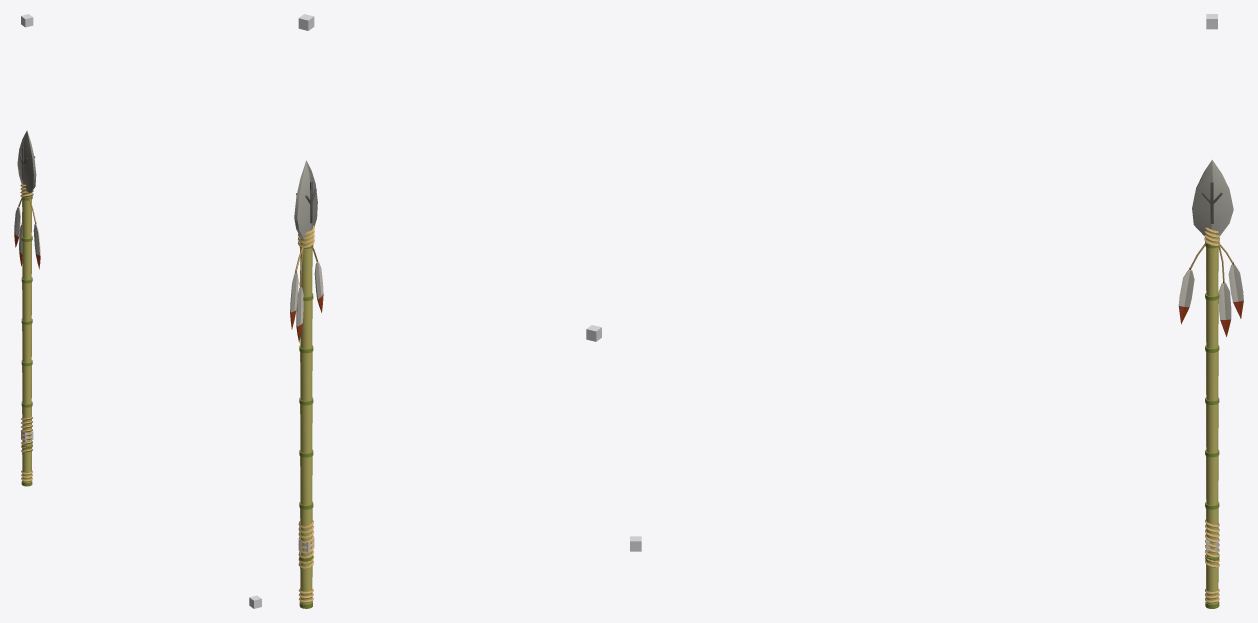
The model's file is MossSpear.fbx.
3 renders of one model, left to right at view 1: azimuth 30°, elevation 25°; view 2: azimuth 150°, elevation 25°; view 3: azimuth 270°, elevation 25°, orthographic. The views are drawn at different scales.
Parts seen in each view (by area): view 1: Body; view 2: Body; view 3: Body.
Boxes of the visible parts, x1=… form: Body: x1=14, y1=130, x2=40, y2=486; Body: x1=290, y1=160, x2=323, y2=608; Body: x1=1178, y1=160, x2=1243, y2=608.
Size of the model in its own units: 0.306 by 11.29 by 10.65.
1 material, 1 textured.
